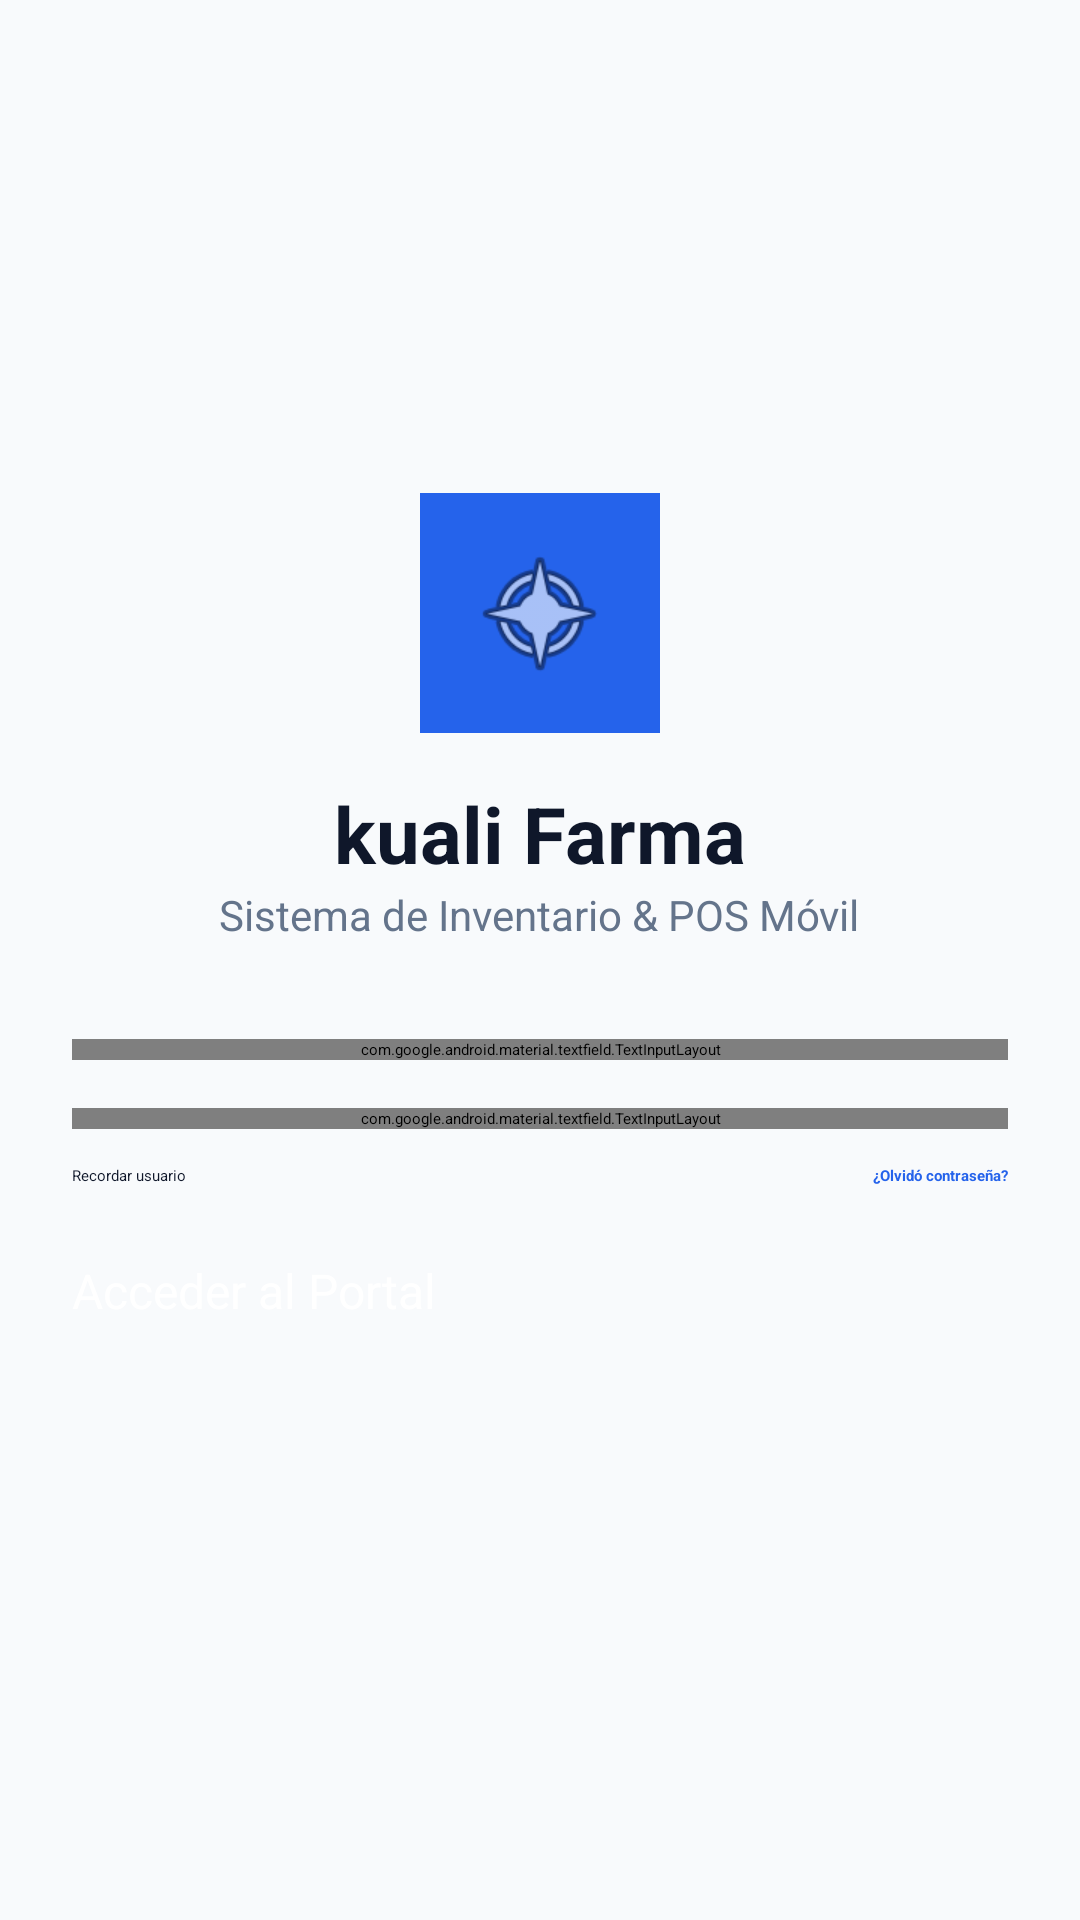

Named icons in this screenshot (1080*1920) and their bounding boxes, [x1, y1, x2, y2]:
compass: [420, 493, 660, 733]
